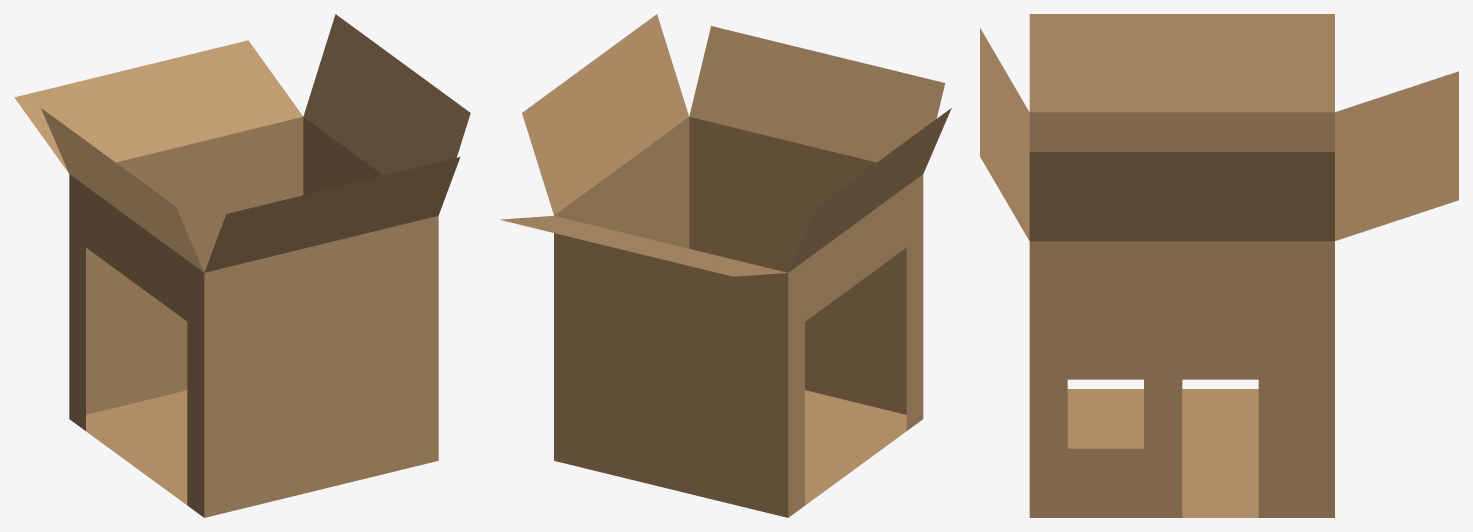
Rendered from cbhome.glb.
3 views of the same model, side by side, from view 1: azimuth 30°, elevation 25°; view 2: azimuth 150°, elevation 25°; view 3: azimuth 270°, elevation 25° (orthographic). The views are drawn at different scales.
Visible parts, largest first — view 1: Cube; view 2: Cube; view 3: Cube.
Part boxes in pixels (<box>): Cube: <box>14,14,470,517</box>; Cube: <box>500,14,951,517</box>; Cube: <box>980,14,1458,517</box>.
Size of what is drawn, in the model's own units: 2.52 by 2.77 by 3.14.
